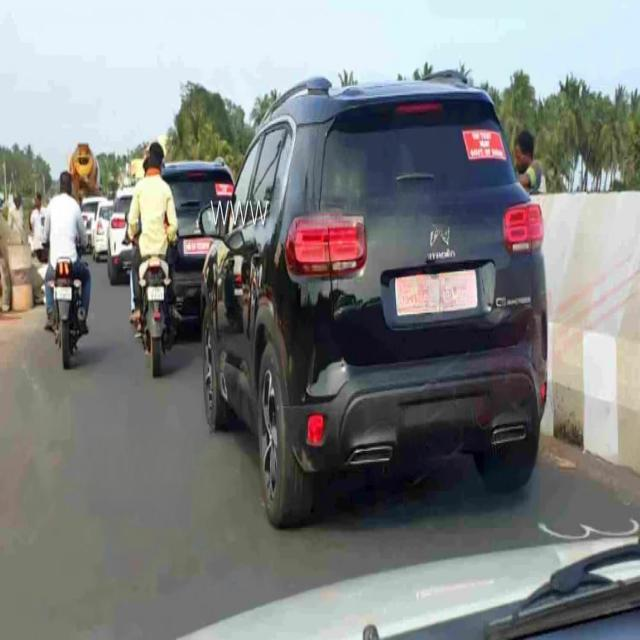car: (201, 74, 548, 525)
motorcycle: (126, 142, 178, 374), (45, 171, 90, 368)
